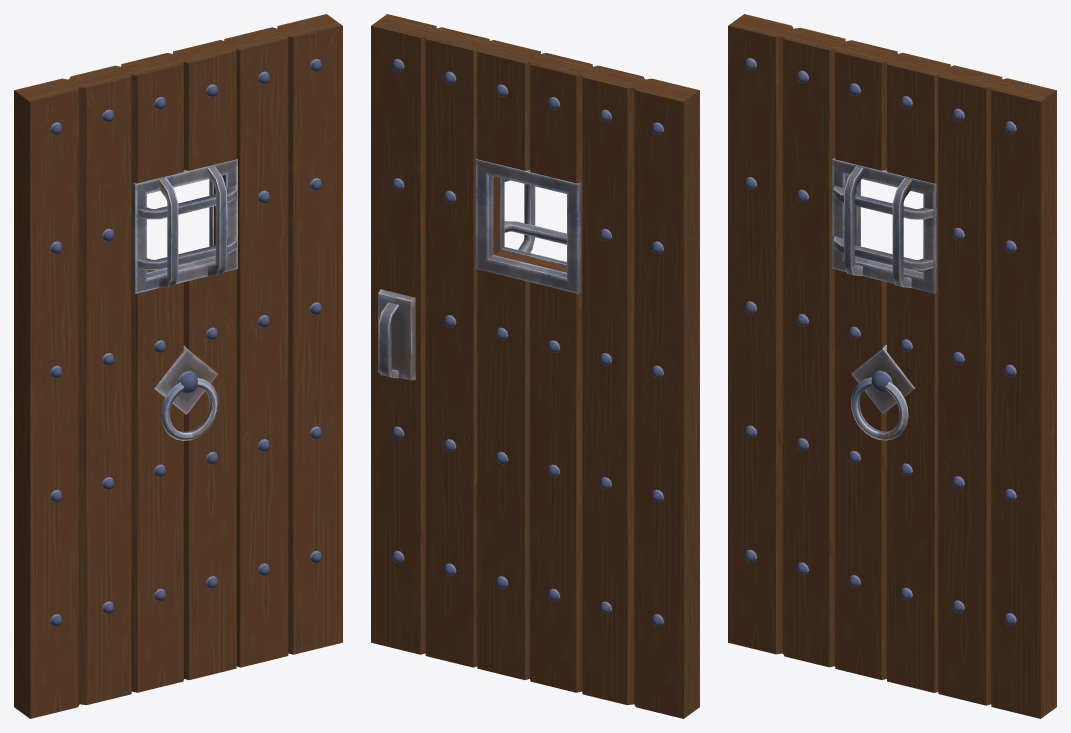
File: gate-qm-door2flat.glb
The picture shows the model from 3 angles, left to right: view 1: azimuth 30°, elevation 25°; view 2: azimuth 150°, elevation 25°; view 3: azimuth 330°, elevation 25°; orthographic projection.
Visible parts, largest first — view 1: Cube_149; view 2: Cube_149; view 3: Cube_149.
Part boxes in pixels (x1,y1,x2,y2): Cube_149: (14,14,342,718); Cube_149: (371,14,699,718); Cube_149: (728,14,1056,718).
Bounding box in the file's own units: 1.11 × 2.1 × 0.2609.
Materials: 2 (2 with a texture image).
